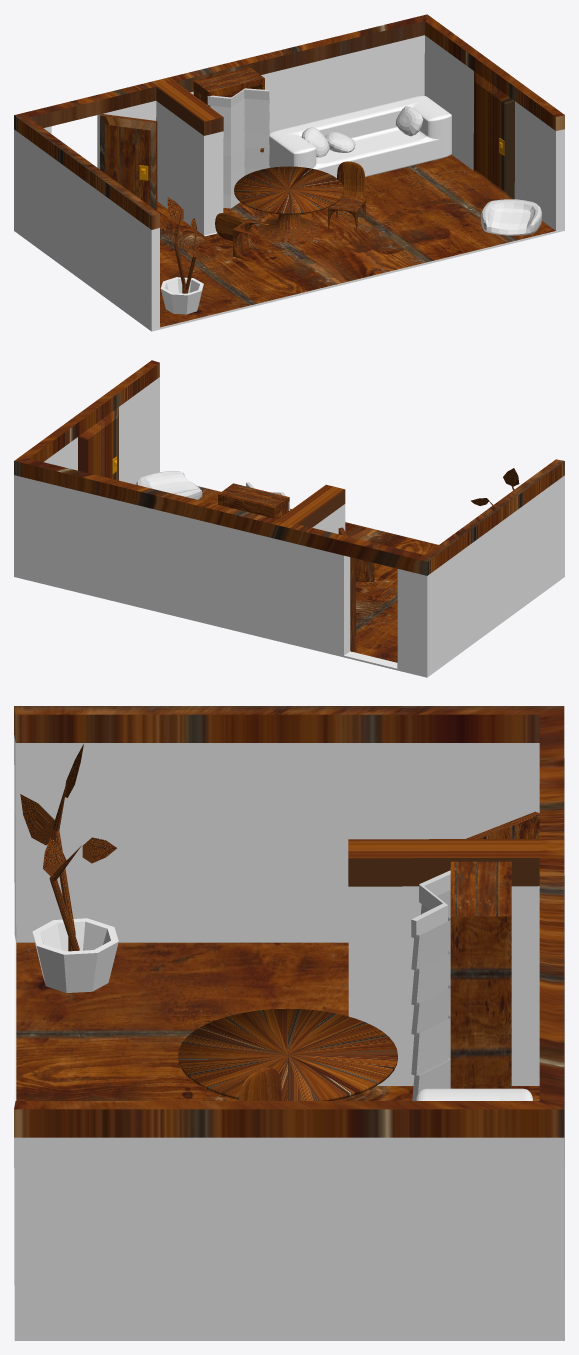
The model's file is sala.glb.
3 views of the same model, one above another, from view 1: azimuth 30°, elevation 25°; view 2: azimuth 150°, elevation 25°; view 3: azimuth 270°, elevation 25° (orthographic). The views are drawn at different scales.
Visible parts, largest first — view 1: Cubo.009, Cubo.013, Círculo_Bezier, Cubo.014, Cubo.010, Cubo.016, Cubo.015, Cubo.017, Cubo.018, Cilindro, Esfera.003, Esfera.002 (+1 smaller); view 2: Cubo.009, Cubo.015, Cubo.016, Cubo.010, Cubo.018; view 3: Cubo.009, Círculo_Bezier, Cubo.015, Cubo.014, Cilindro, Cubo.013, Cubo.017, Cubo.010, Plano.001.
Part boxes in pixels (<box>): Cubo.009: <box>14,14,564,331</box>; Cubo.013: <box>269,96,451,177</box>; Círculo_Bezier: <box>234,166,343,242</box>; Cubo.014: <box>207,88,269,208</box>; Cubo.010: <box>100,114,157,211</box>; Cubo.016: <box>481,199,541,235</box>; Cubo.015: <box>193,67,264,106</box>; Cubo.017: <box>328,161,365,232</box>; Cubo.018: <box>215,213,268,261</box>; Cilindro: <box>160,277,203,314</box>; Esfera.003: <box>395,106,423,136</box>; Esfera.002: <box>302,127,329,157</box>; Cubo.009: <box>14,360,564,677</box>; Cubo.015: <box>218,483,289,519</box>; Cubo.016: <box>136,471,202,499</box>; Cubo.010: <box>338,527,355,651</box>; Cubo.018: <box>356,558,375,581</box>; Cubo.009: <box>14,706,564,1340</box>; Círculo_Bezier: <box>178,1008,397,1100</box>; Cubo.015: <box>450,861,511,1088</box>; Cubo.014: <box>411,870,450,1100</box>; Cilindro: <box>32,918,118,992</box>; Cubo.013: <box>416,1088,532,1100</box>; Cubo.017: <box>239,1067,281,1100</box>; Cubo.010: <box>466,811,539,838</box>; Plano.001: <box>20,794,56,845</box>.
Bounding box in the file's own units: 28.14 × 7.79 × 16.26.
Materials: 8 (4 with a texture image).
